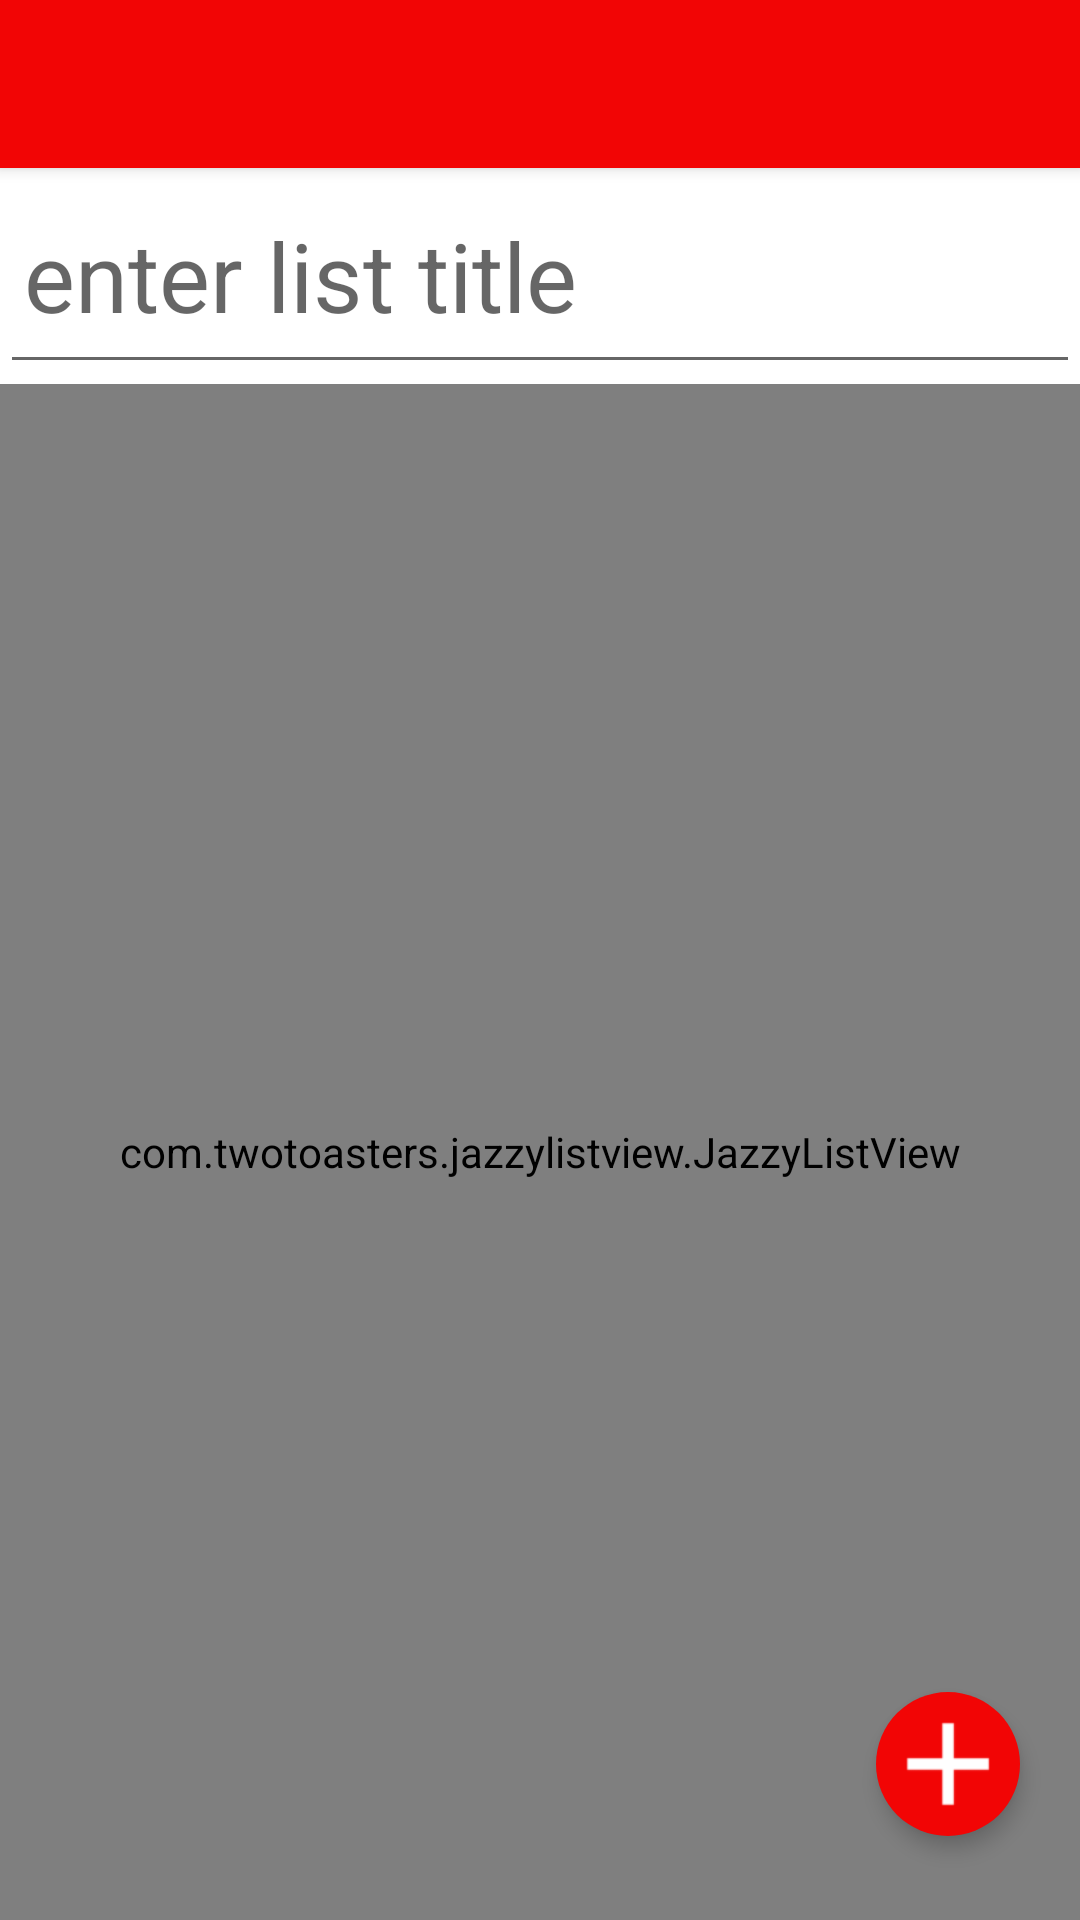

Point at icon controls on the screen. Image size 1080 x 1920, points as (x=x, y=y).
plus: (x=948, y=1764)
